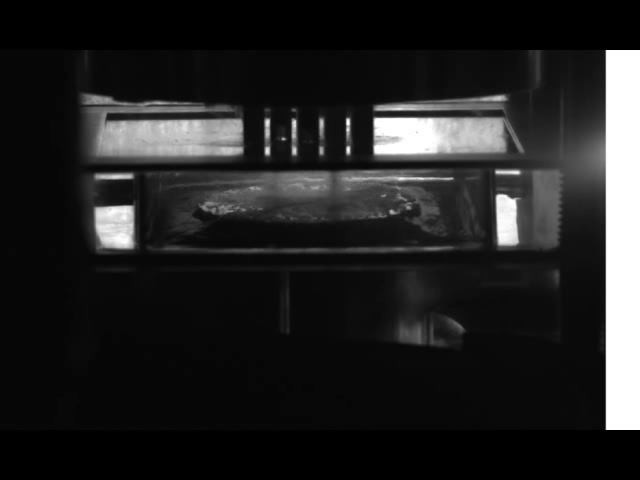Zona de teste: (199, 177, 419, 229)
